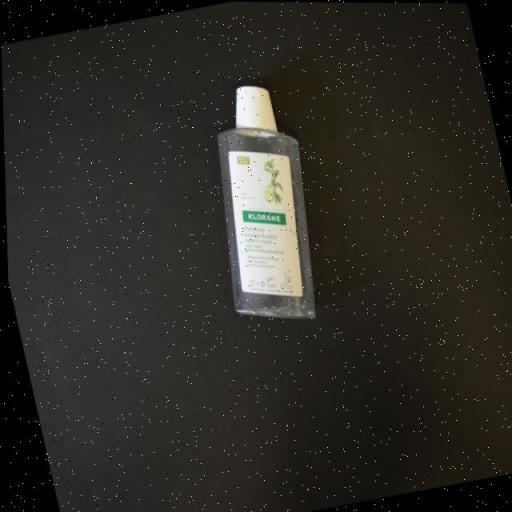plastic: (185, 77, 336, 335)
